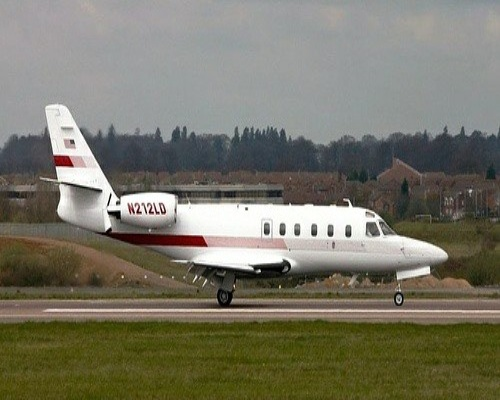plane: (36, 104, 447, 308)
